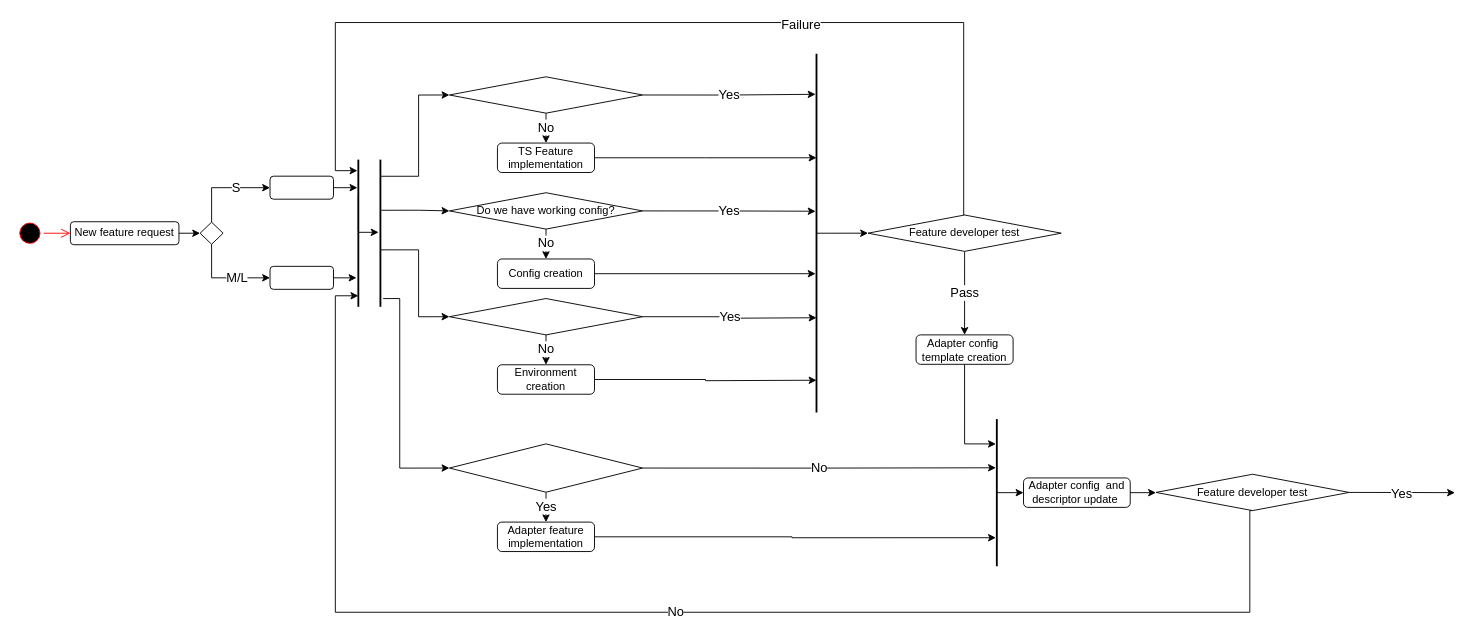
The diagram is 1478 pixels wide and 636 high, and some of its shapes have lost their labels. Each missing label, with the centre of its shape:
"Analysis" goes at point (301, 187).
"Do we have the env. for testing?" goes at point (545, 316).
"Do we need Adapter code development?" goes at point (545, 467).
"Study" goes at point (301, 277).
"TS feature ready?" goes at point (545, 94).
